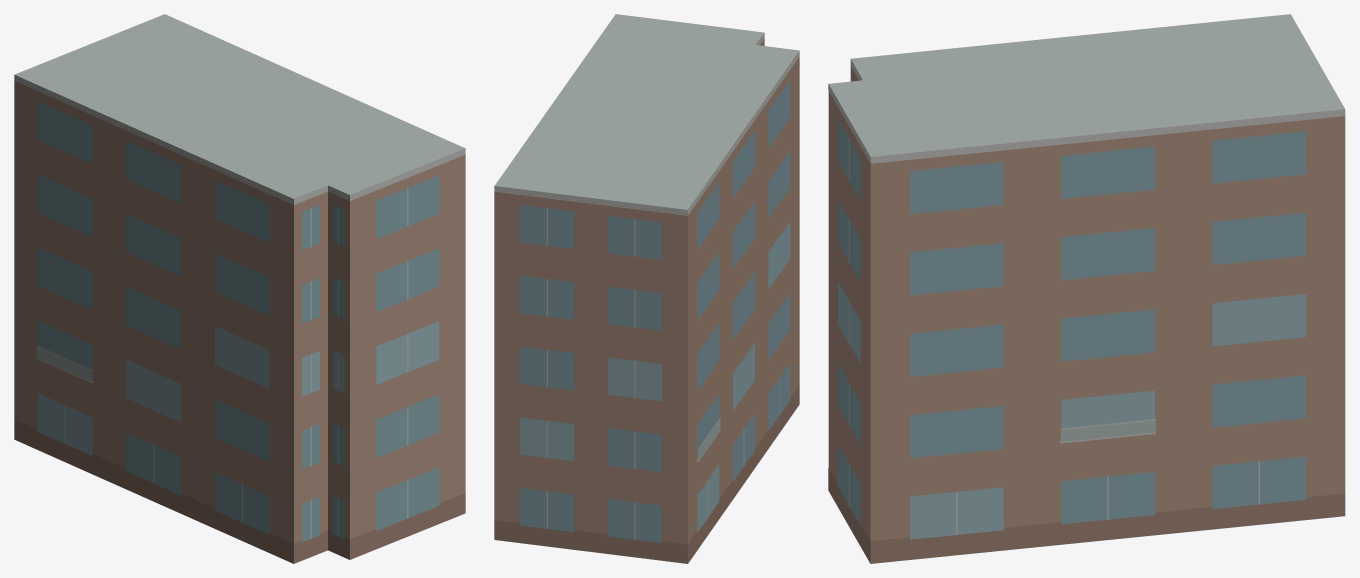
The model's file is survey-upis-32931886.glb.
The picture shows the model from 3 angles, left to right: view 1: azimuth 30°, elevation 25°; view 2: azimuth 150°, elevation 25°; view 3: azimuth 270°, elevation 25°; orthographic projection. The views are drawn at different scales.
Visible parts, largest first — view 1: survey-upis-32931886.tmp; view 2: survey-upis-32931886.tmp; view 3: survey-upis-32931886.tmp.
Boxes of the visible parts, left/top/right/bottom form: survey-upis-32931886.tmp: left=14, top=14, right=465, bottom=563; survey-upis-32931886.tmp: left=494, top=14, right=799, bottom=563; survey-upis-32931886.tmp: left=828, top=14, right=1345, bottom=563.
Size of the model in its own units: 10.98 by 14.55 by 16.76.
